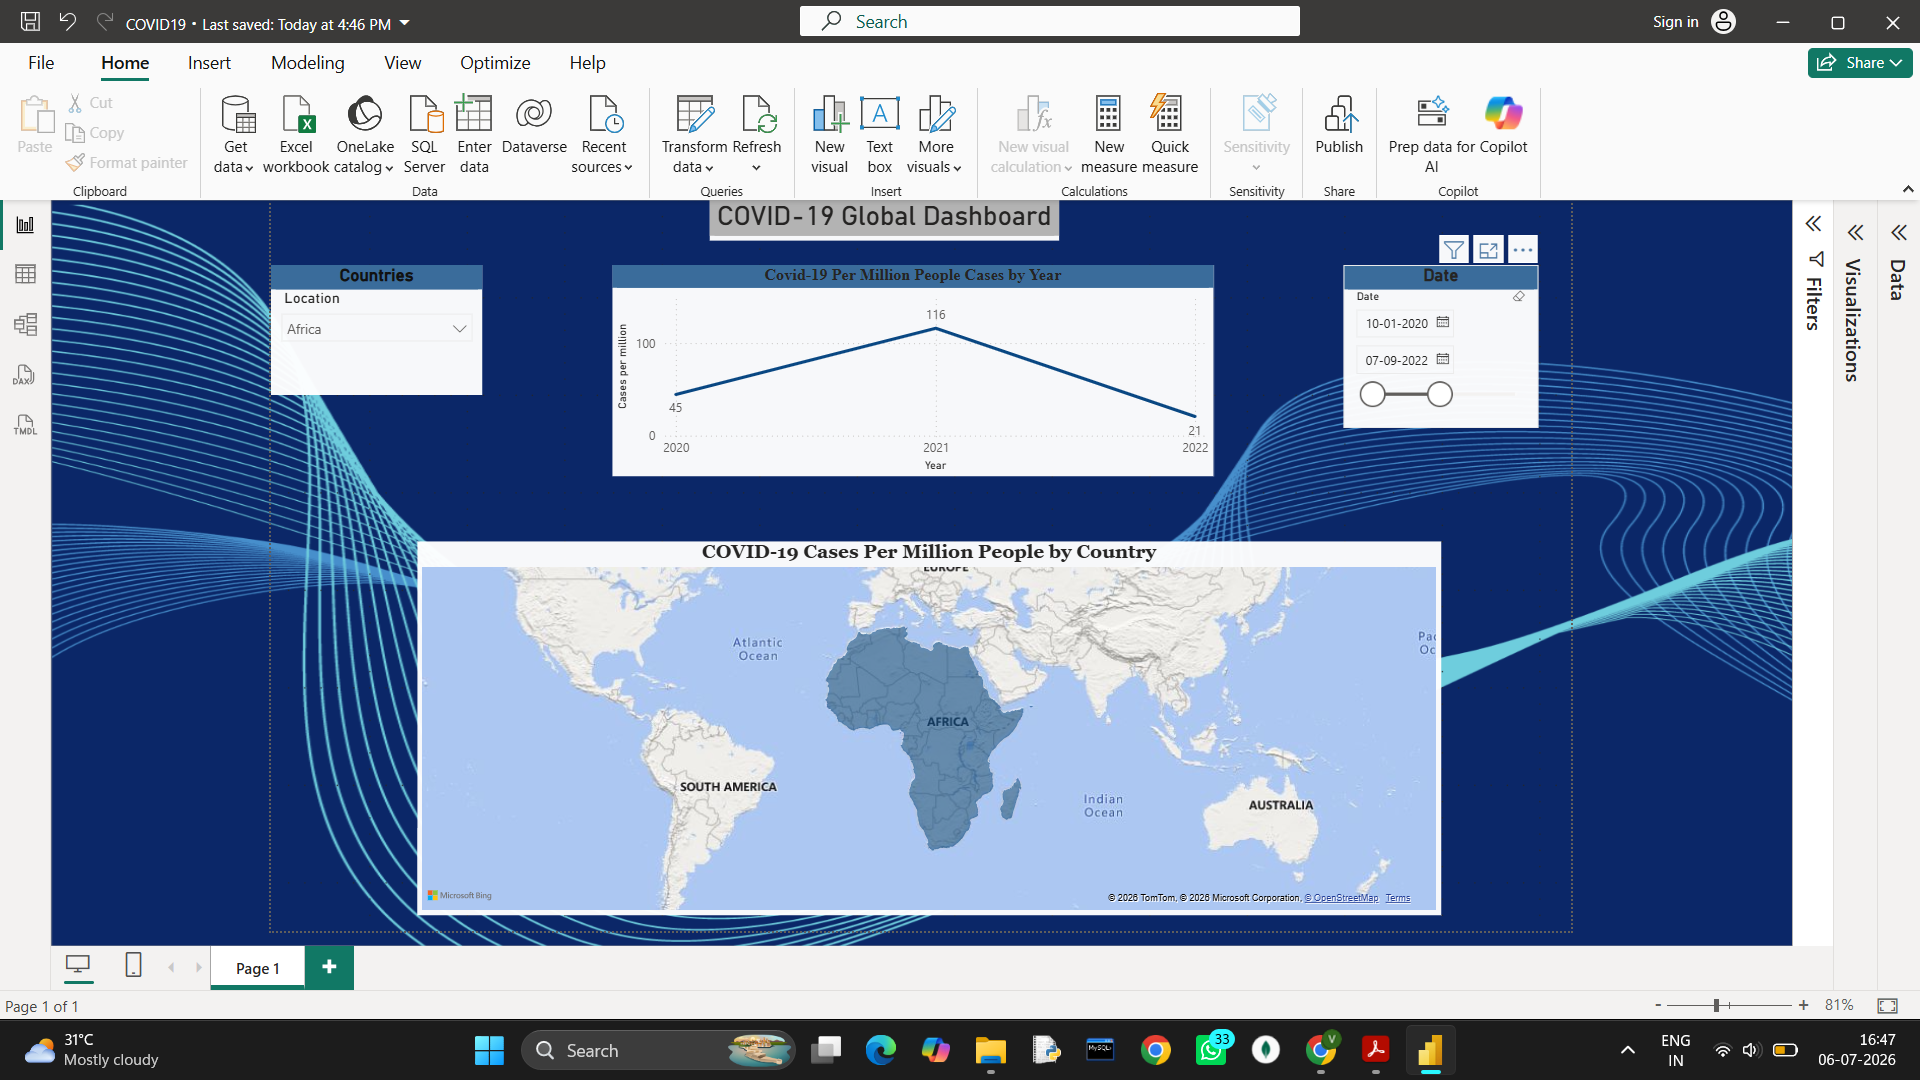

Layout of this report page (visuals, bound fields, positions):
{"tool":"powerbi","page":{"name":"Page 1","canvas":[1280,720],"ordinal":0},"visuals":[{"type":"lineChart","title":"Covid-19 Per Million People Cases by Year","fields":{"Category":["daily-new-confirmed-covid-19-deaths-per-million-people.Date.Variation.Date Hierarchy.Year","daily-new-confirmed-covid-19-deaths-per-million-people.Date.Variation.Date Hierarchy.Quarter","daily-new-confirmed-covid-19-deaths-per-million-people.Date.Variation.Date Hierarchy.Month","daily-new-confirmed-covid-19-deaths-per-million-people.Date.Variation.Date Hierarchy.Day"],"Y":["Sum(daily-new-confirmed-covid-19-deaths-per-million-people.Covid-19 Per Million People Cases)"]},"box":[336,64,592,208],"z":0},{"type":"filledMap","title":"COVID-19 Cases Per Million People by Country","fields":{"Category":["daily-new-confirmed-covid-19-deaths-per-million-people.Location"]},"box":[144,336,1008,368],"z":1000},{"type":"slicer","title":"Countries","fields":{"Values":["daily-new-confirmed-covid-19-deaths-per-million-people.Location"]},"box":[0,64,208,128],"z":2000},{"type":"slicer","title":"Date","fields":{"Values":["daily-new-confirmed-covid-19-deaths-per-million-people.Date"]},"box":[1056,64,192,160],"z":3000},{"type":"textbox","title":"COVID-19 Global Dashboard","box":[432,0,344,40],"z":4000}]}

Visuals, with their boxes in screenshot pixels (x1, y1, x2, y2):
"Covid-19 Per Million People Cases by Year" lineChart: <bbox>535, 33, 1443, 352</bbox>
"COVID-19 Cases Per Million People by Country" filledMap: <bbox>241, 450, 1787, 1015</bbox>
"Countries" slicer: <bbox>20, 33, 339, 229</bbox>
"Date" slicer: <bbox>1640, 33, 1919, 279</bbox>
